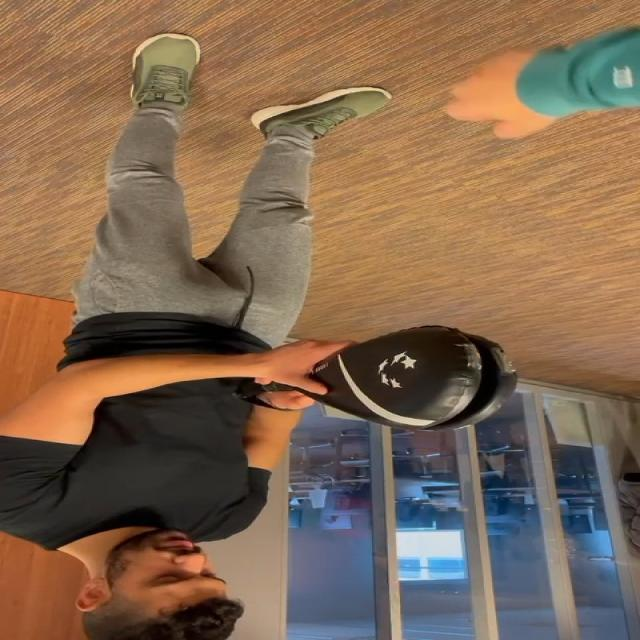paddle: (324, 329, 514, 430)
